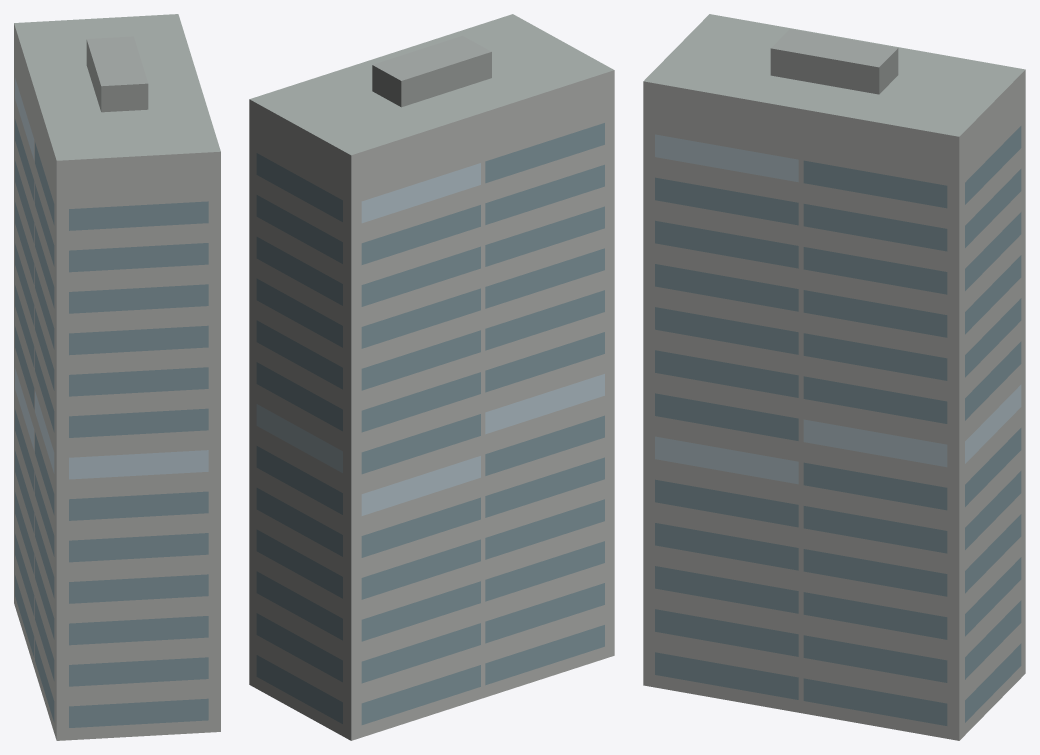
The model's file is fallback-olympic-athletes-village-254.glb.
3 views of the same model, side by side, from view 1: azimuth 30°, elevation 25°; view 2: azimuth 150°, elevation 25°; view 3: azimuth 270°, elevation 25° (orthographic). The views are drawn at different scales.
Parts seen in each view (by area): view 1: fallback-olympic-athletes-village-254; view 2: fallback-olympic-athletes-village-254; view 3: fallback-olympic-athletes-village-254.
Boxes of the visible parts, x1=… form: fallback-olympic-athletes-village-254: x1=14, y1=14, x2=220, y2=740; fallback-olympic-athletes-village-254: x1=249, y1=14, x2=614, y2=740; fallback-olympic-athletes-village-254: x1=643, y1=14, x2=1025, y2=740.
Bounding box in the file's own units: 18.62 × 44.62 × 24.49.
